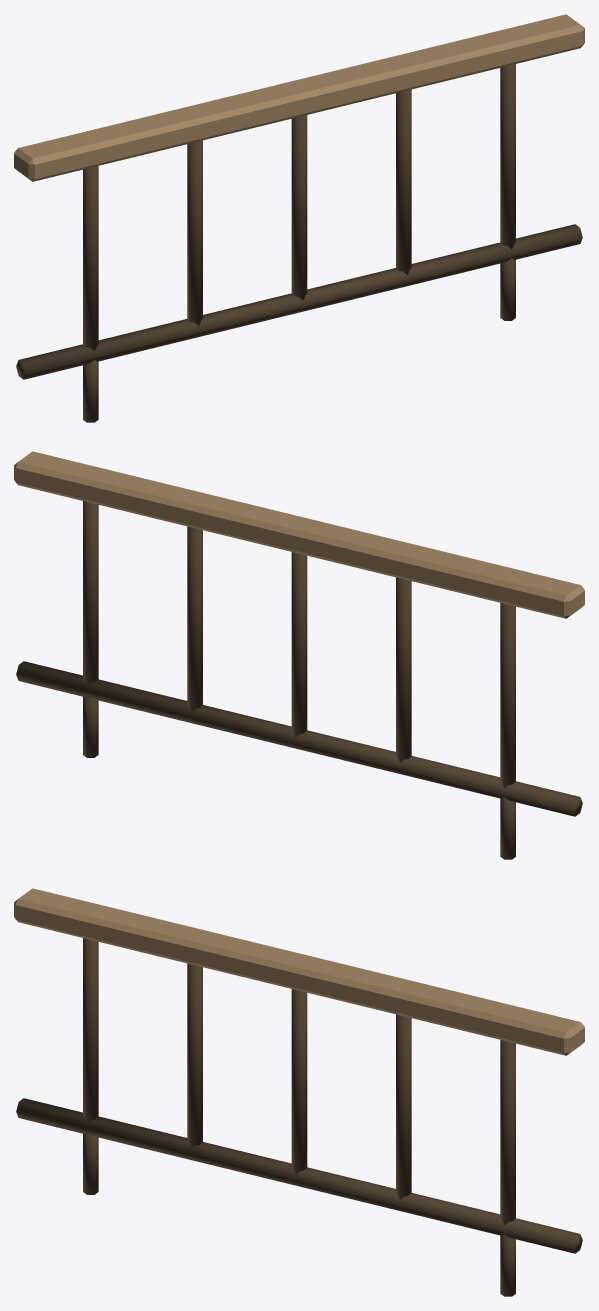
The model's file is lookout_railing_2m.glb.
The picture shows the model from 3 angles, top to bottom: view 1: azimuth 30°, elevation 25°; view 2: azimuth 150°, elevation 25°; view 3: azimuth 330°, elevation 25°; orthographic projection.
Visible parts, largest first — view 1: lookout_railing_2m; view 2: lookout_railing_2m; view 3: lookout_railing_2m.
Part boxes in pixels (bbox=[...]): lookout_railing_2m: bbox=[14, 14, 584, 422]; lookout_railing_2m: bbox=[14, 451, 584, 859]; lookout_railing_2m: bbox=[14, 888, 584, 1296].
Bounding box in the file's own units: 2 × 0.97 × 0.12.
